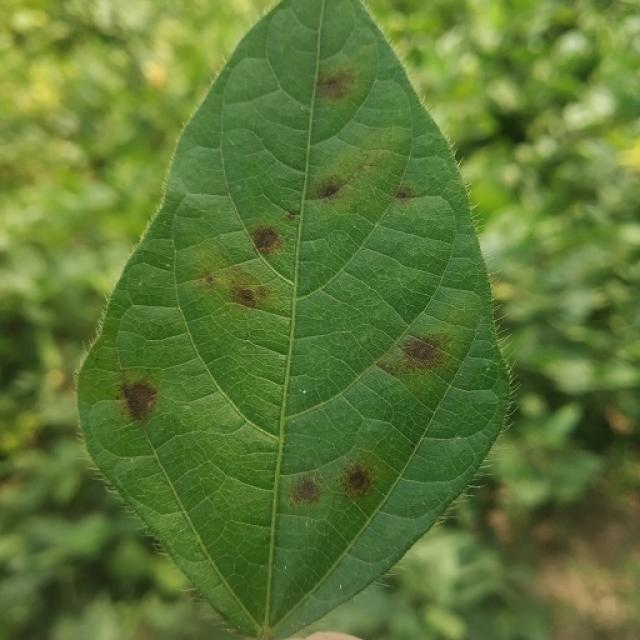Anthracnose: (287, 452, 383, 513), (242, 217, 292, 264), (221, 268, 271, 310), (117, 375, 159, 424), (396, 334, 443, 370), (339, 461, 374, 498), (288, 473, 324, 507), (249, 223, 283, 253), (316, 71, 352, 99), (313, 176, 344, 201), (376, 354, 406, 378), (234, 286, 258, 307), (394, 187, 416, 201), (254, 624, 271, 639), (256, 285, 270, 302), (324, 77, 340, 90), (285, 207, 302, 218), (204, 273, 216, 286), (254, 632, 272, 640), (115, 392, 122, 401)
Blackgram: (78, 0, 510, 639)
